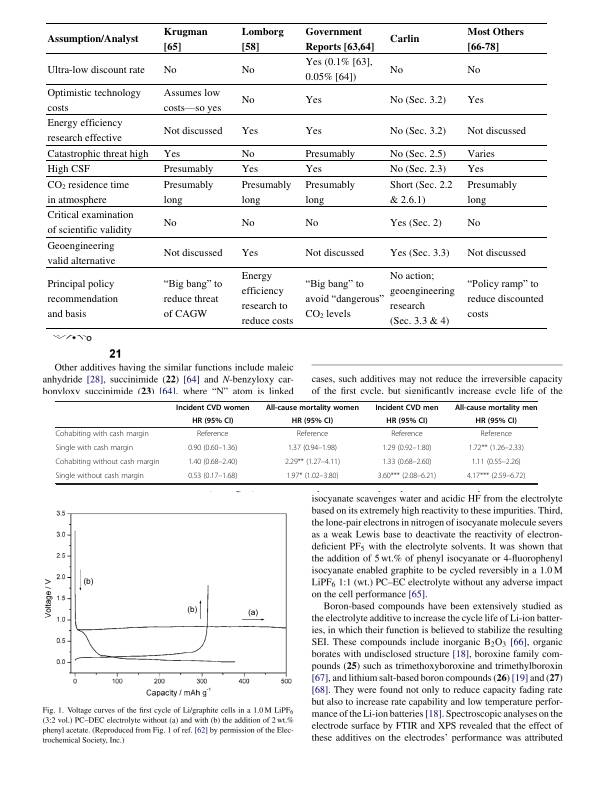borderless: (46, 21, 547, 328), (54, 399, 537, 483)
cell: (389, 269, 456, 328), (305, 275, 385, 321), (466, 275, 545, 320), (46, 277, 119, 320), (241, 269, 294, 328), (163, 275, 223, 320), (46, 86, 142, 114), (46, 208, 135, 237), (46, 178, 130, 206), (46, 116, 123, 145), (305, 24, 375, 53), (305, 55, 374, 84), (46, 239, 116, 267), (389, 178, 454, 206), (466, 24, 525, 53), (163, 86, 222, 115), (466, 178, 518, 206), (163, 178, 214, 206), (241, 178, 292, 206), (305, 178, 356, 206), (46, 147, 149, 160), (163, 24, 209, 53), (46, 32, 139, 46), (46, 63, 146, 76), (241, 24, 285, 53), (54, 457, 160, 467), (54, 429, 150, 439), (55, 471, 145, 481), (389, 246, 451, 260), (265, 403, 360, 412), (466, 246, 527, 260), (163, 246, 223, 260), (305, 246, 365, 260), (389, 93, 447, 107), (389, 162, 447, 176), (54, 443, 134, 453), (466, 124, 527, 137), (163, 124, 223, 137), (454, 403, 538, 412), (389, 124, 447, 137), (389, 147, 447, 160), (163, 162, 214, 176), (389, 216, 443, 229), (175, 403, 250, 412), (305, 147, 356, 160), (46, 162, 91, 176), (377, 471, 437, 481), (466, 471, 526, 481), (374, 403, 439, 412), (468, 443, 525, 453), (284, 457, 341, 467), (285, 471, 339, 481), (187, 443, 238, 453), (287, 443, 338, 453), (381, 443, 432, 453), (187, 457, 238, 467), (381, 457, 432, 467), (471, 457, 522, 467), (187, 471, 238, 481), (389, 32, 420, 46), (191, 416, 234, 426), (291, 416, 334, 426), (385, 416, 428, 426), (475, 416, 518, 426), (466, 147, 496, 160), (390, 429, 424, 439), (479, 429, 513, 439), (196, 429, 229, 439), (296, 429, 329, 439), (466, 93, 485, 107), (466, 162, 485, 176), (305, 93, 323, 107), (241, 162, 259, 176), (305, 162, 323, 176), (241, 246, 259, 260), (241, 124, 259, 137), (305, 124, 323, 137), (163, 147, 181, 160), (241, 93, 256, 107), (163, 63, 178, 76), (241, 63, 256, 76), (389, 63, 404, 76), (466, 63, 481, 76), (241, 147, 256, 160), (163, 216, 178, 229), (241, 216, 256, 229), (466, 216, 481, 229), (305, 216, 319, 229)
